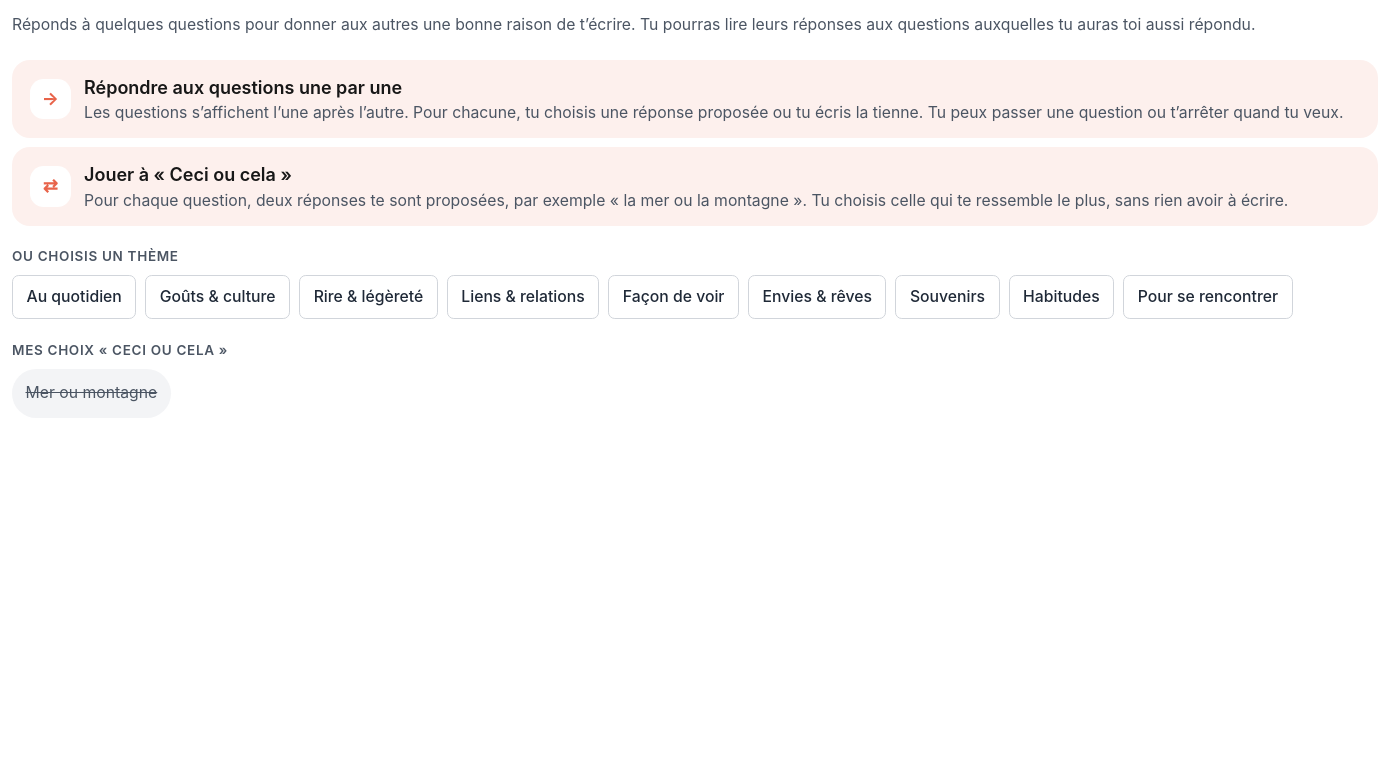
Test: mes choix « Ceci ou cela » › disent sobrement quand la modération en a retiré un
This screenshot has width=1390, height=780.
Click the button "Mer ou montagne".
click(91, 393)  # box [12,369,171,418]
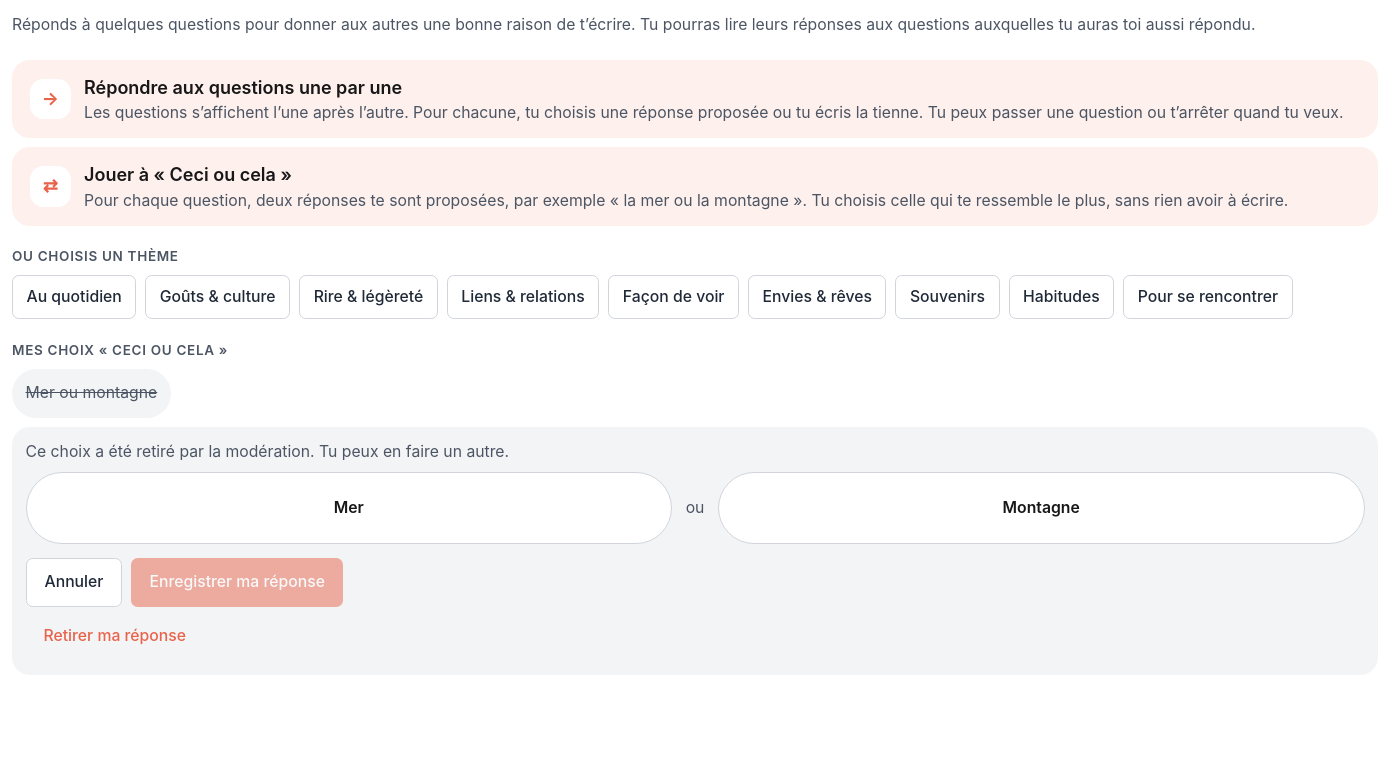
Expected: the text "Ce choix a été retiré par la modération. Tu peux en faire un autre." is shown, [26,442,509,461]
